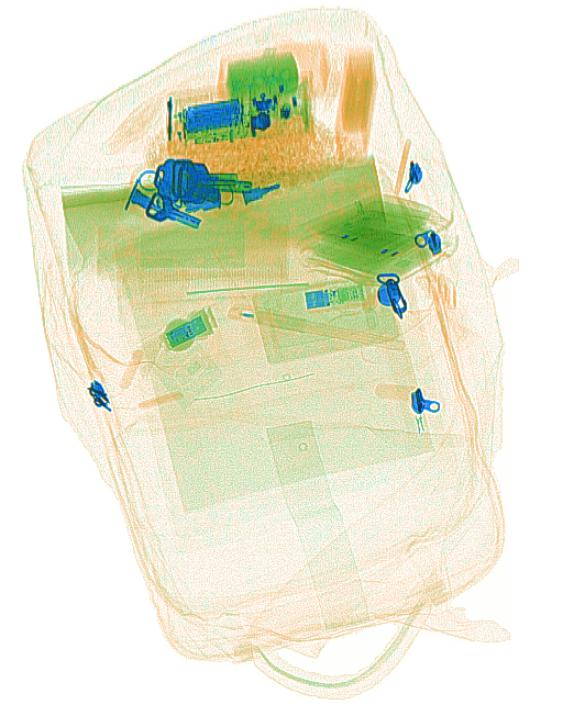USBFlashDisk: (303, 282, 366, 310), (163, 314, 208, 349)
battery: (182, 95, 244, 133)
